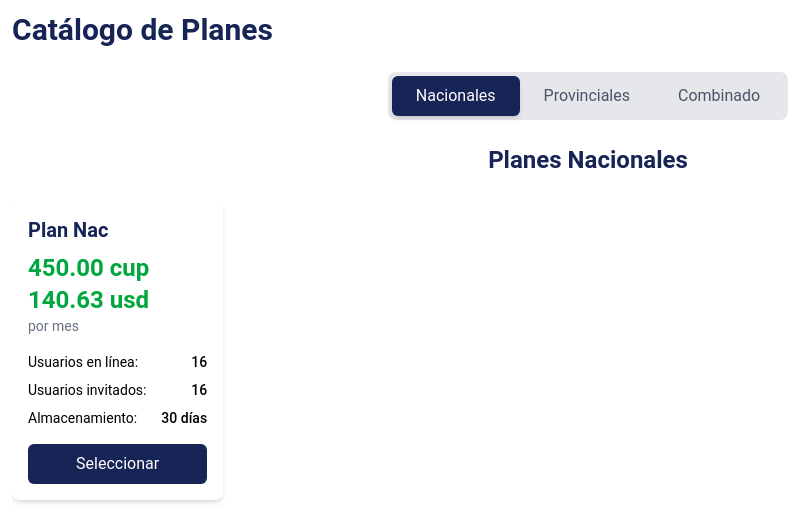
Test: PlanSalaCatalog › debe mostrar planes provinciales al cambiar pestaña
Expected: the heading "Plan Nac" is shown, [28,218,108,242]
Click the button "Provinciales": coordinates (587, 96) [520,76,654,116]
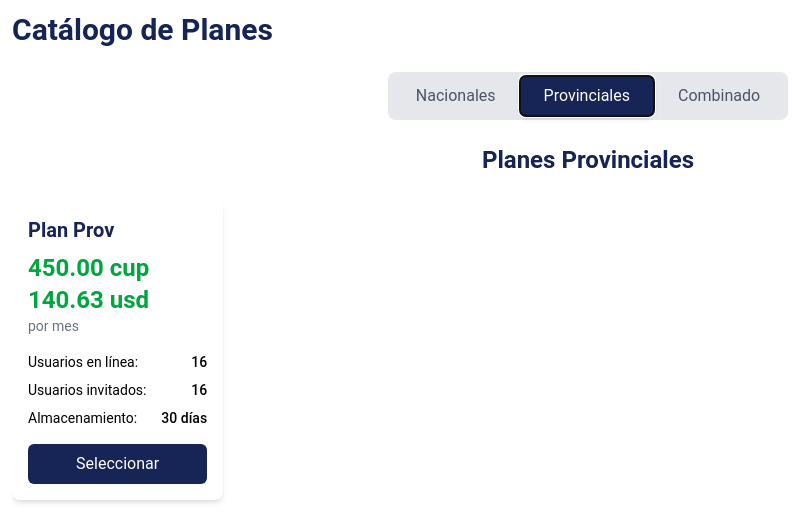
Result: the heading "Plan Prov" is shown at [28,218,114,242]
